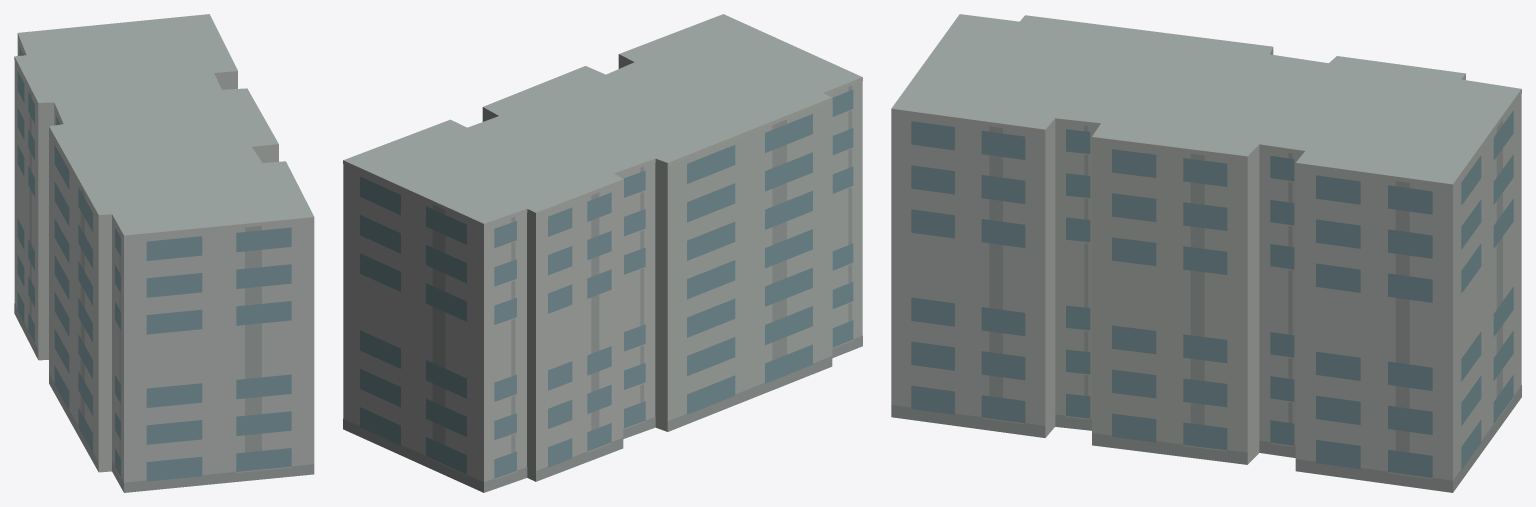
The model's file is survey-upis-32941527.glb.
3 renders of one model, left to right at view 1: azimuth 30°, elevation 25°; view 2: azimuth 150°, elevation 25°; view 3: azimuth 270°, elevation 25°, orthographic. The views are drawn at different scales.
Visible parts, largest first — view 1: survey-upis-32941527.tmp; view 2: survey-upis-32941527.tmp; view 3: survey-upis-32941527.tmp.
Boxes of the visible parts, x1,y1,x2,y2 form: survey-upis-32941527.tmp: (14, 14, 314, 492); survey-upis-32941527.tmp: (343, 14, 862, 492); survey-upis-32941527.tmp: (891, 14, 1521, 492).
Bounding box in the file's own units: 20.27 × 17.1 × 31.68.
